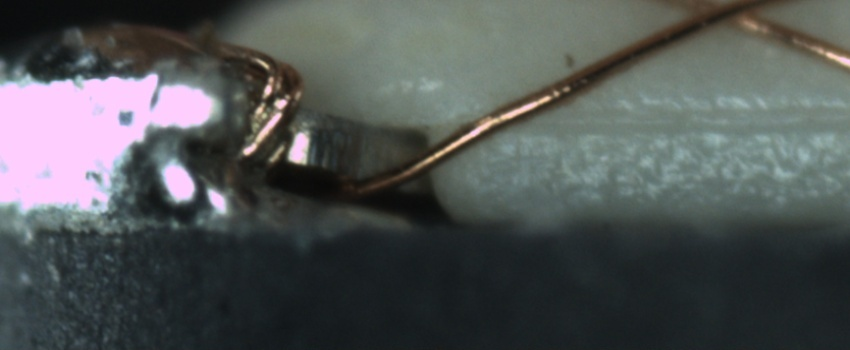CL: (681, 2, 770, 33)
DL: (480, 89, 850, 156)
TE: (205, 37, 309, 199)
